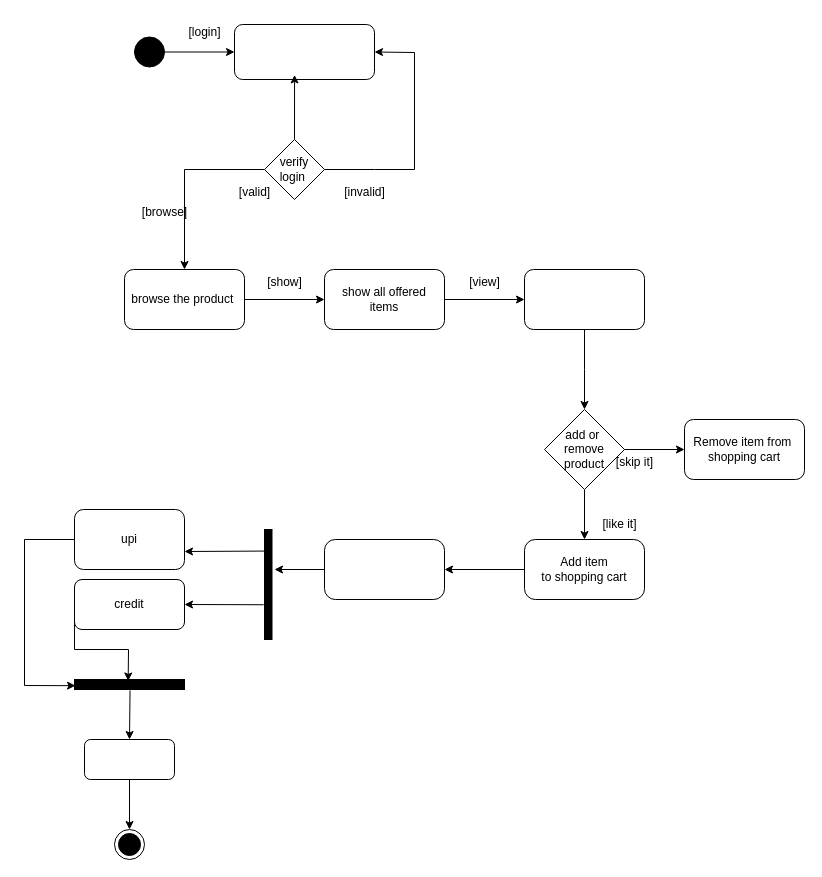
Some shapes in this 822 by 877 pixel diagram are drawn without their labels. The centre of each missing label's shape, as x and y in pixels:
"delivery of item" belongs at (x=129, y=759).
"login" belongs at (x=304, y=52).
"payment" belongs at (x=384, y=569).
"view and choose an item" belongs at (x=584, y=299).
